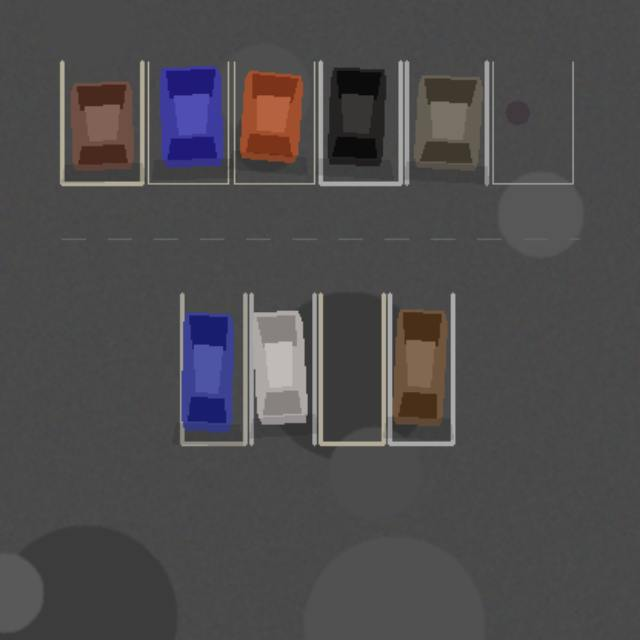space-empty: (492, 62, 572, 183), (320, 294, 383, 443)
space-occupied: (62, 62, 142, 183), (148, 62, 228, 183), (234, 62, 314, 183), (320, 62, 400, 183), (406, 62, 486, 183), (182, 294, 245, 443), (251, 294, 314, 443), (389, 294, 452, 443)
